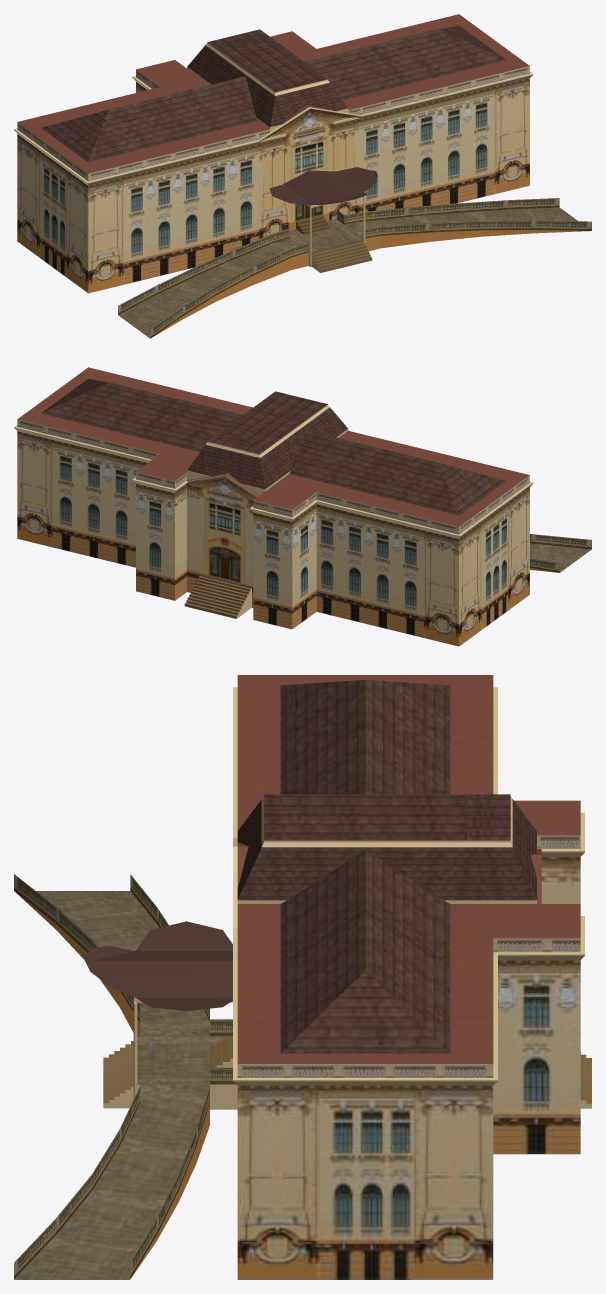
3 renders of one model, top to bottom at view 1: azimuth 30°, elevation 25°; view 2: azimuth 150°, elevation 25°; view 3: azimuth 270°, elevation 25°, orthographic. The views are drawn at different scales.
Visible parts, largest first — view 1: HN691___nha_khach_chinh_phu; view 2: HN691___nha_khach_chinh_phu; view 3: HN691___nha_khach_chinh_phu.
Boxes of the visible parts, x1,y1,x2,y2 form: HN691___nha_khach_chinh_phu: (14, 14, 591, 338); HN691___nha_khach_chinh_phu: (14, 367, 591, 646); HN691___nha_khach_chinh_phu: (14, 675, 591, 1279).
Size of the model in its own units: 50.64 by 16.1 by 31.5.
1 material, 1 textured.
